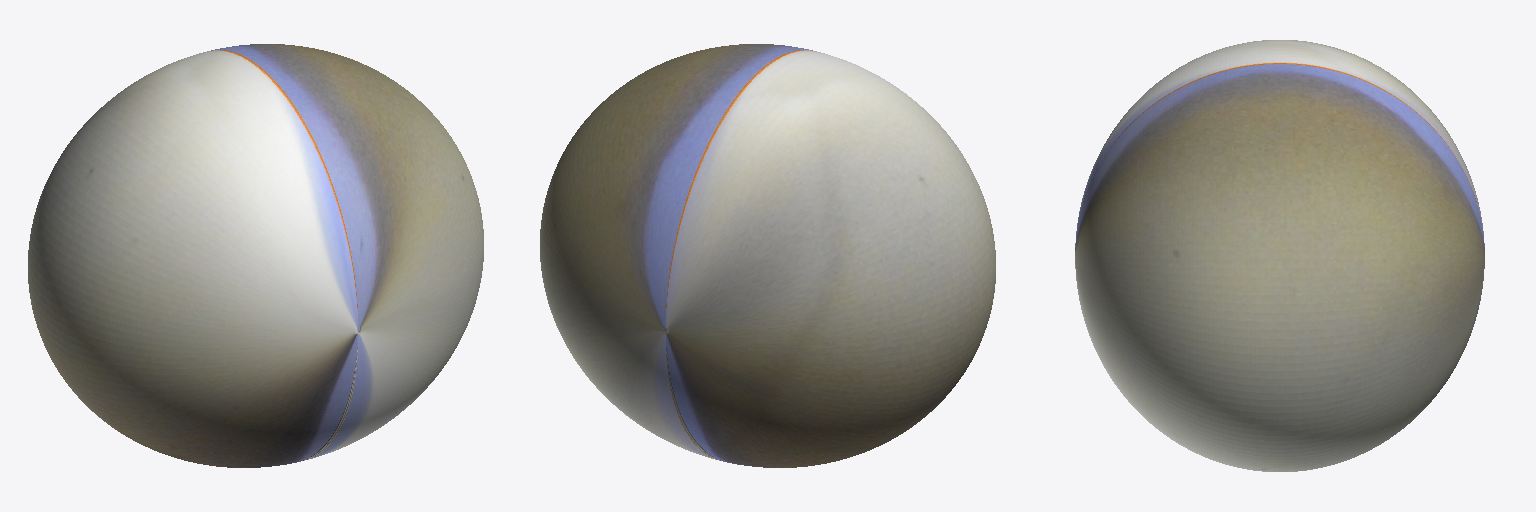
3 views of the same model, side by side, from view 1: azimuth 30°, elevation 25°; view 2: azimuth 150°, elevation 25°; view 3: azimuth 270°, elevation 25° (orthographic).
Visible parts, largest first — view 1: grp1; view 2: grp1; view 3: grp1.
Part boxes in pixels (bbox=[...]): grp1: bbox=[28, 44, 483, 467]; grp1: bbox=[540, 44, 995, 467]; grp1: bbox=[1075, 40, 1484, 471].
Size of the model in its own units: 2 by 1.8 by 1.74.
1 materials, 1 textured.